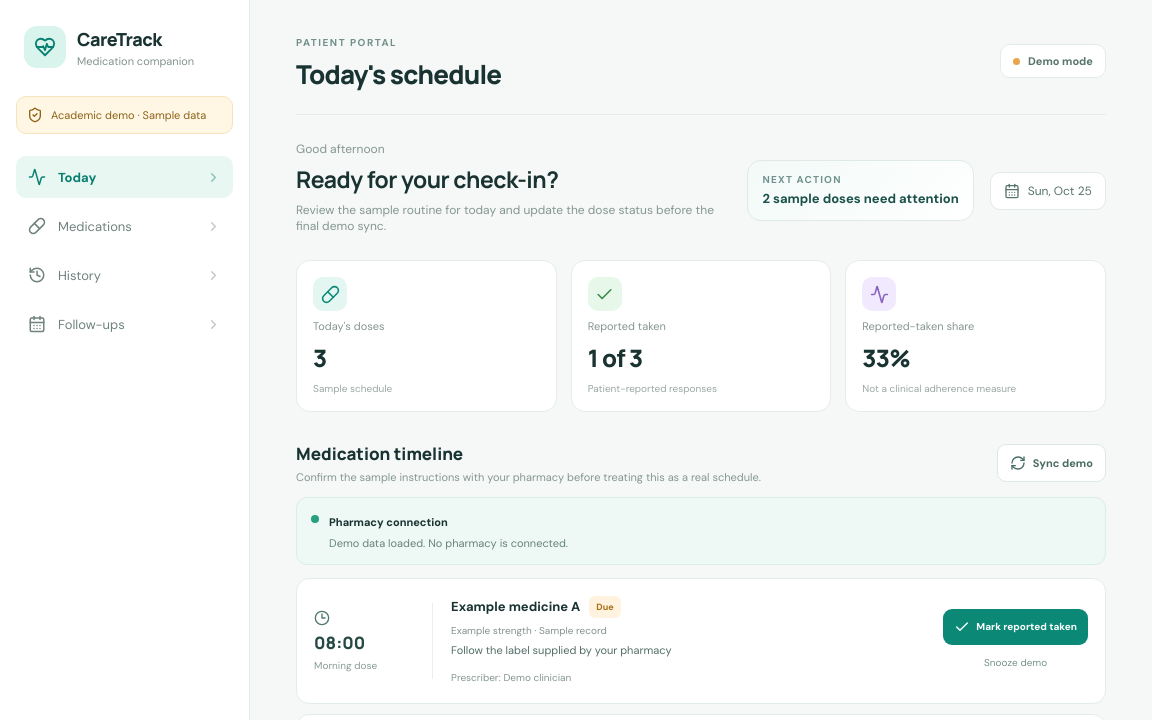
Test case: demo medication dashboard › records snoozes without changing medication instructions
The image size is (1152, 720).
Step 1. Click the button "Snooze demo" → (1016, 662), box [943,652,1088,673]
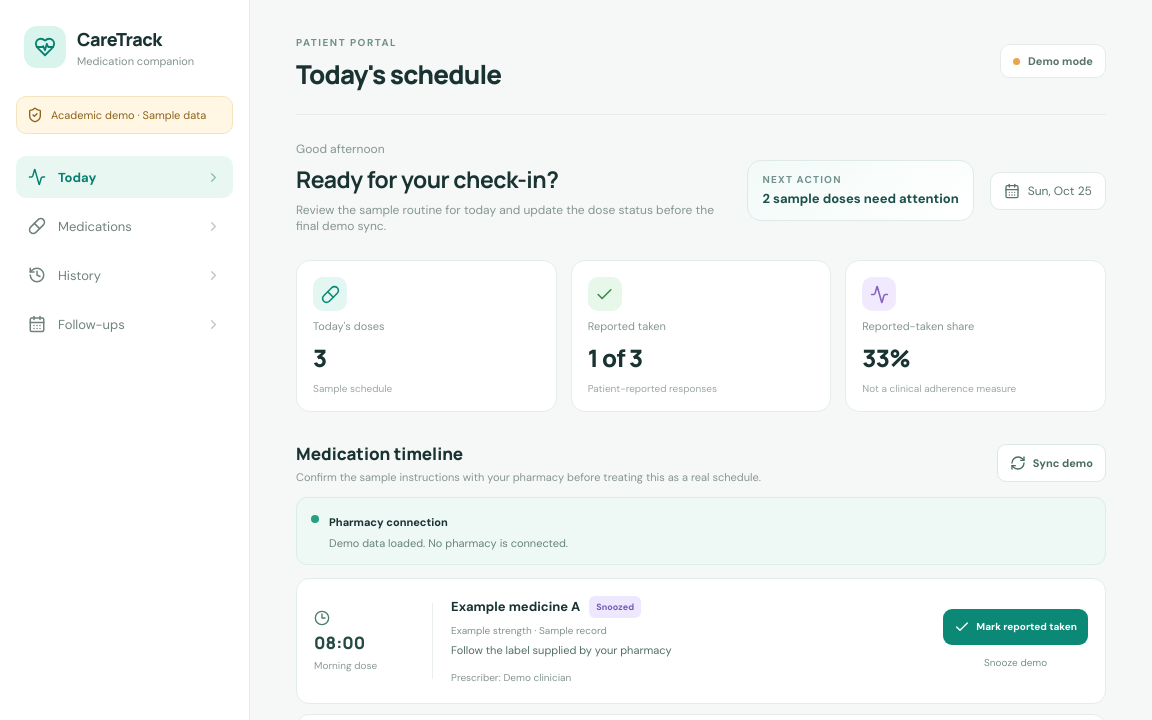
Expected: the text "Follow the label supplied by your pharmacy" is shown, [451,642,672,656]
Result: the text "Snoozed" is shown at [589,596,641,618]
Step 2. Click the button "History" → (124, 275), box [16,254,233,296]
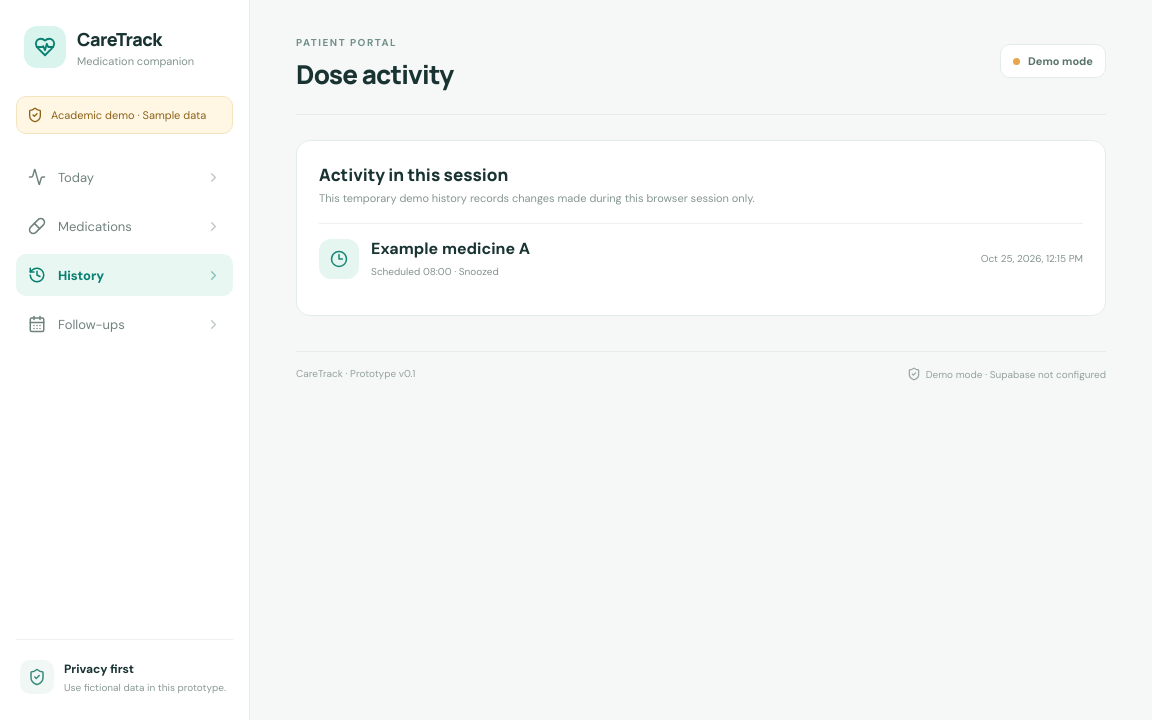
Result: the text "Scheduled 08:00 · Snoozed" is shown at [371,265,499,278]
